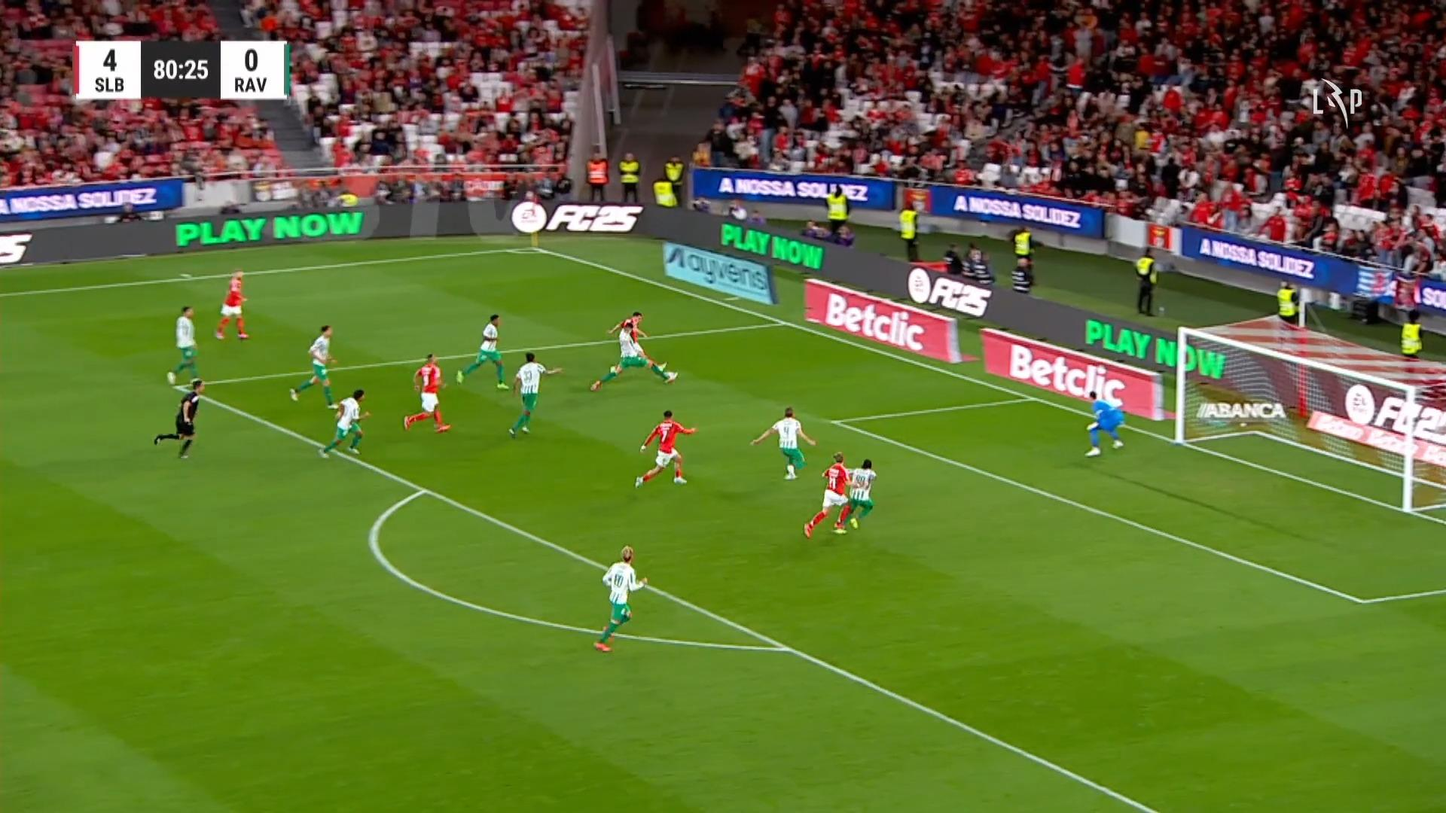goalkeeper: (1083, 389, 1126, 456)
player: (589, 324, 678, 391), (593, 544, 648, 652), (633, 409, 697, 488), (749, 406, 816, 480), (507, 351, 563, 438), (802, 451, 853, 538), (289, 324, 340, 409), (455, 313, 511, 390), (402, 352, 450, 432), (608, 311, 668, 372), (318, 388, 370, 458), (166, 304, 201, 388), (839, 458, 877, 529), (214, 269, 250, 340)
referee: (153, 377, 205, 459)
